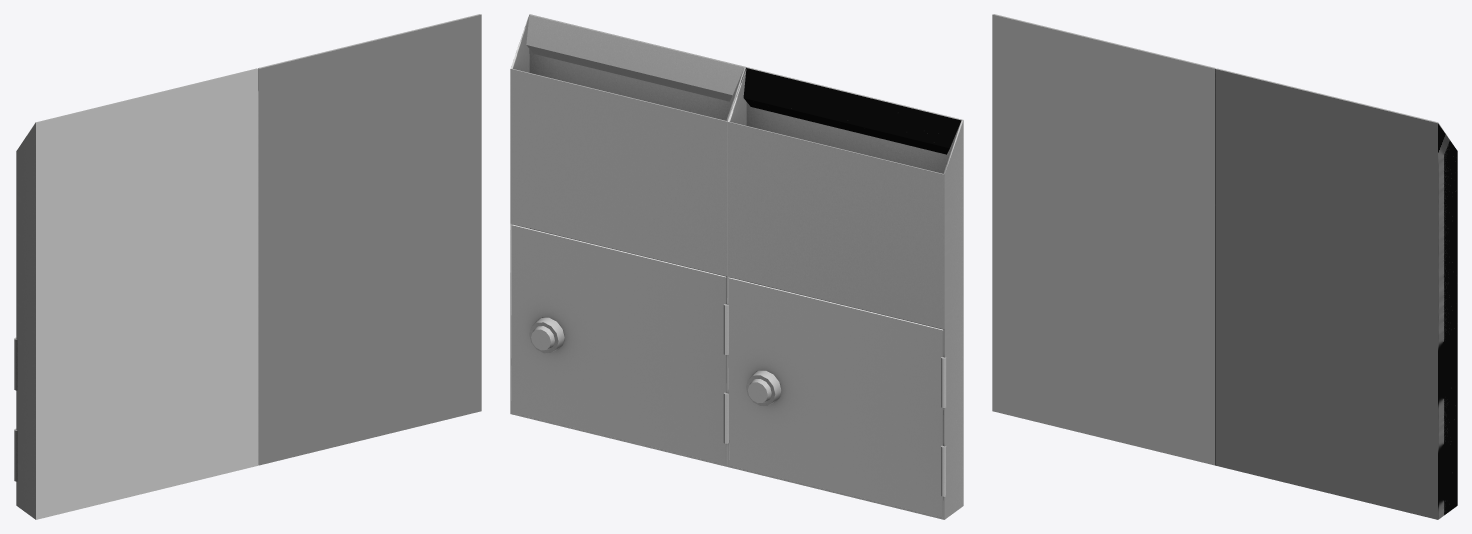
Rendered from postbox.fbx.
3 renders of one model, left to right at view 1: azimuth 30°, elevation 25°; view 2: azimuth 150°, elevation 25°; view 3: azimuth 330°, elevation 25°, orthographic. The views are drawn at different scales.
Parts seen in each view (by area): view 1: postbox-base; view 2: postbox-base, left_door, right_door; view 3: postbox-base.
Boxes of the visible parts, box(x1,y1,x2,y2) form: postbox-base: box(14, 14, 481, 519); postbox-base: box(510, 14, 963, 519); left_door: box(511, 224, 726, 464); right_door: box(728, 278, 943, 517); postbox-base: box(992, 14, 1457, 519).
Bounding box in the file's own units: 0.5791 × 0.4903 × 0.0625.
